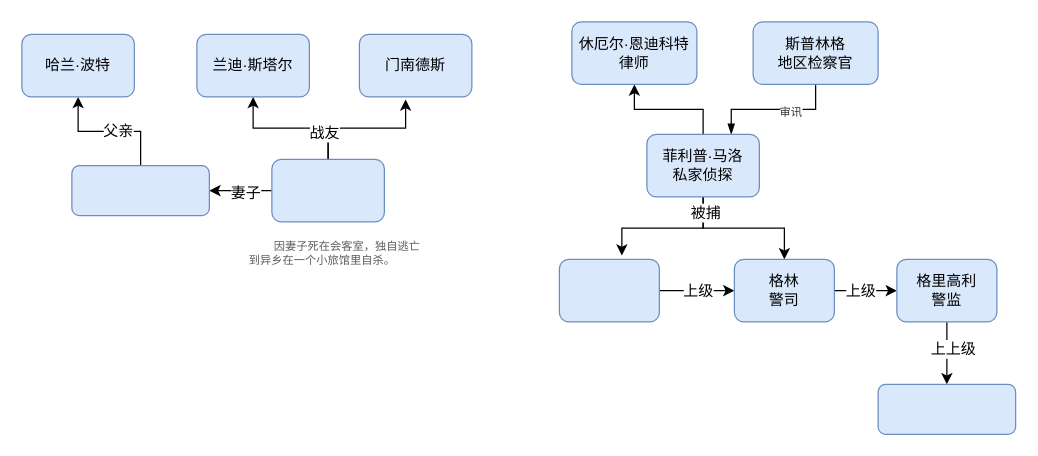
This 1038x456 diagram has some shape labels left out. The centre of each missing label's shape, as x and y in pixels:
"奥尔布莱特专员 最高长官" goes at point 946,408.
"戴顿 警探" goes at point 608,290.
"特里·莱诺克斯" goes at point 327,190.
"西尔维亚·莱诺克斯" goes at point 140,190.
